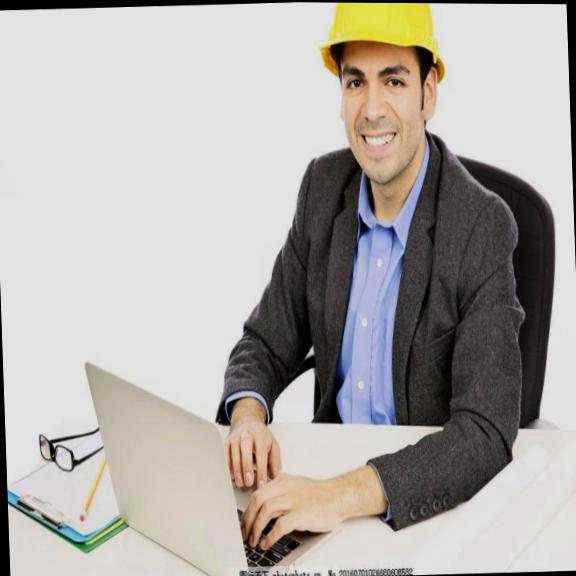no_safety_vest: (284, 157, 504, 418)
